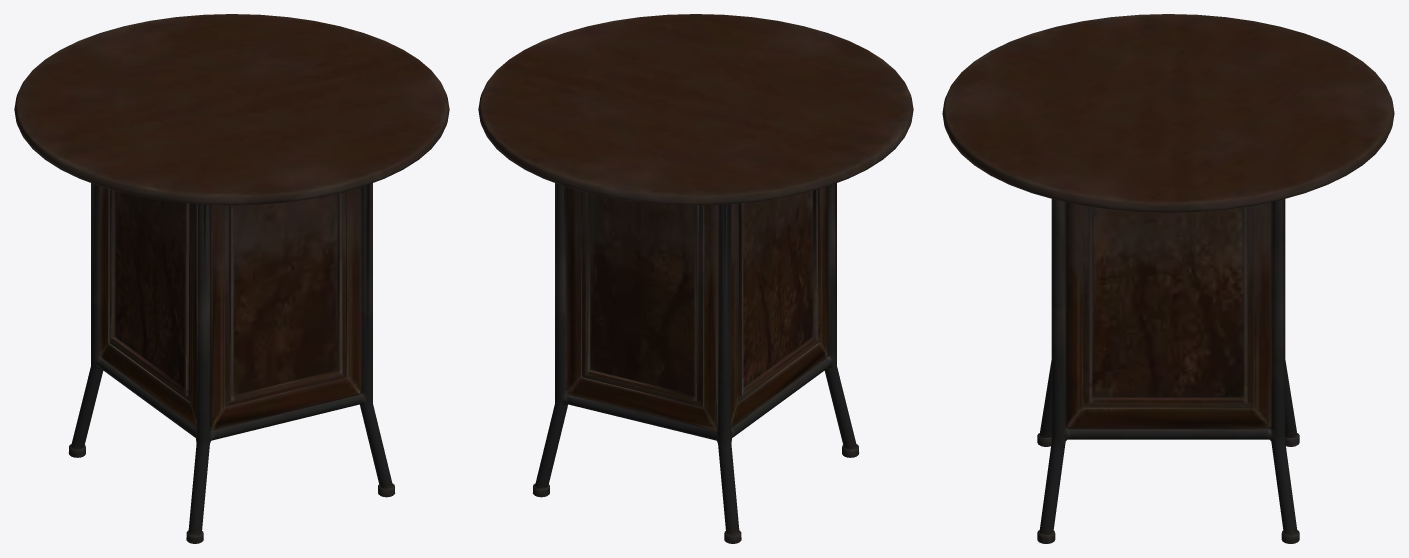
The model's file is round_wooden_table_02.glb.
The picture shows the model from 3 angles, left to right: view 1: azimuth 30°, elevation 25°; view 2: azimuth 150°, elevation 25°; view 3: azimuth 270°, elevation 25°; orthographic projection. The views are drawn at different scales.
Visible parts, largest first — view 1: round_wooden_table_02; view 2: round_wooden_table_02; view 3: round_wooden_table_02.
Part boxes in pixels (<box>): round_wooden_table_02: <box>14,14,449,543</box>; round_wooden_table_02: <box>478,14,913,543</box>; round_wooden_table_02: <box>942,14,1394,543</box>.
Bounding box in the file's own units: 0.7962 × 0.746 × 0.7962.
Materials: 1 (1 with a texture image).
